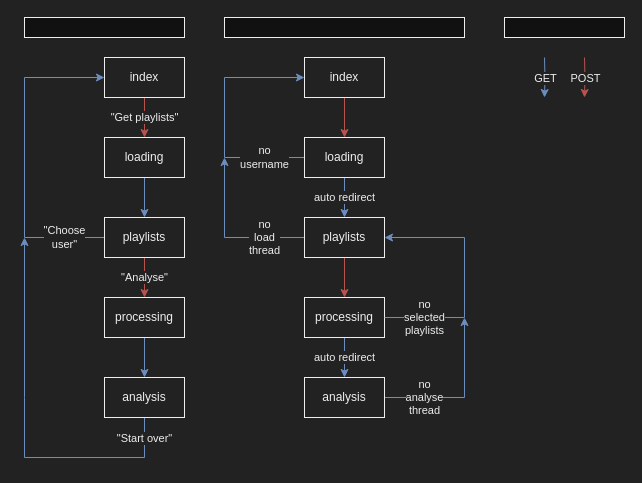
This 642x483 diagram has some shape labels left out. Here are the shapes that lost their labels. From the top down, the centre of each, then its label:
the point at 104,27: Button presses
the point at 344,27: Logical redirects
the point at 564,27: HTTP methods
